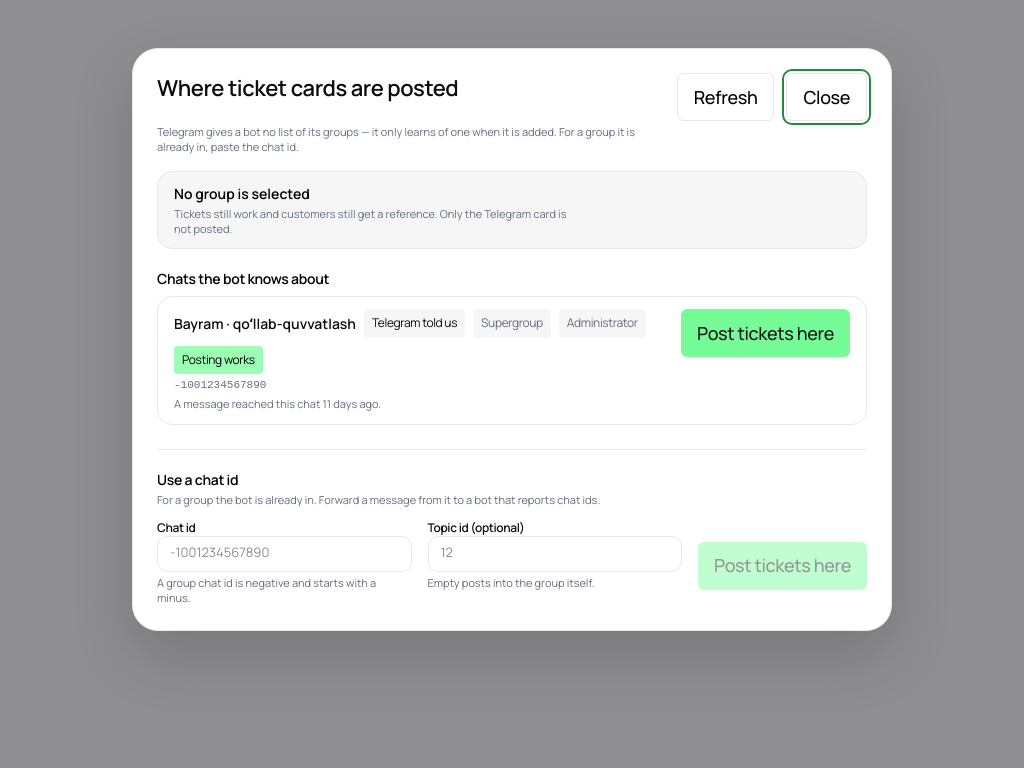
Test: SupportGroupDialog — the refusals › reports a concurrent double press as somebody else having changed it first
The width and height of the screenshot is (1024, 768).
Click the button with aria-label "post ticket cards to" at (766, 333), box [681,309,850,357]
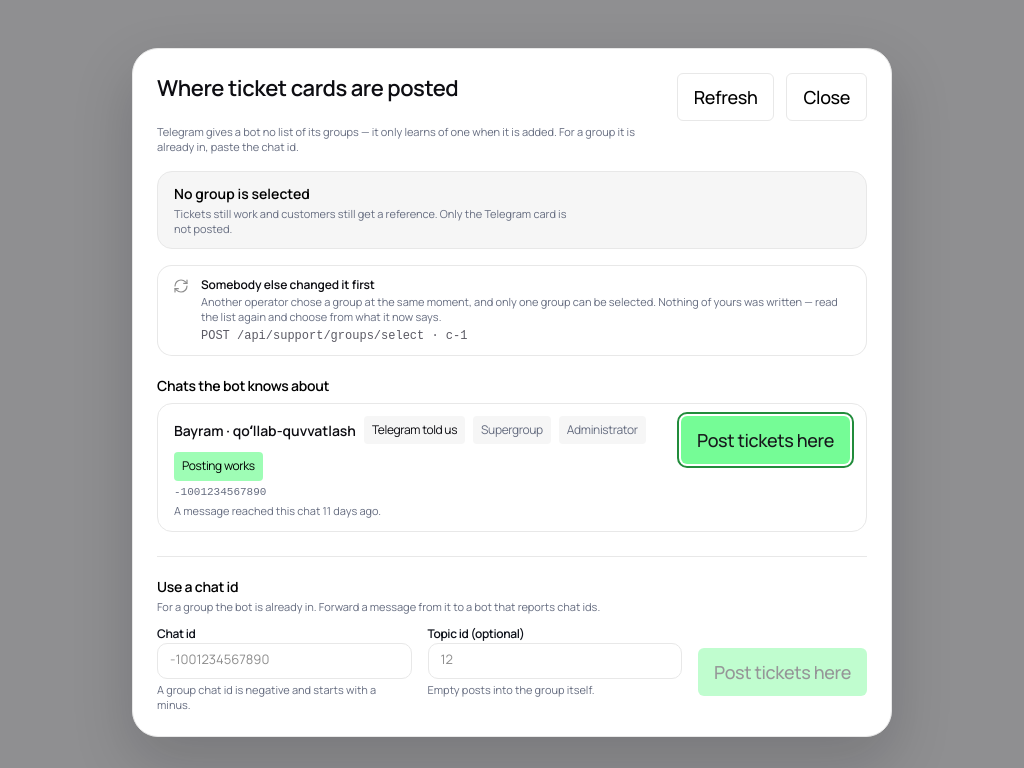
Check: the text "Somebody else changed it first" is shown, box [201,276,375,293]
